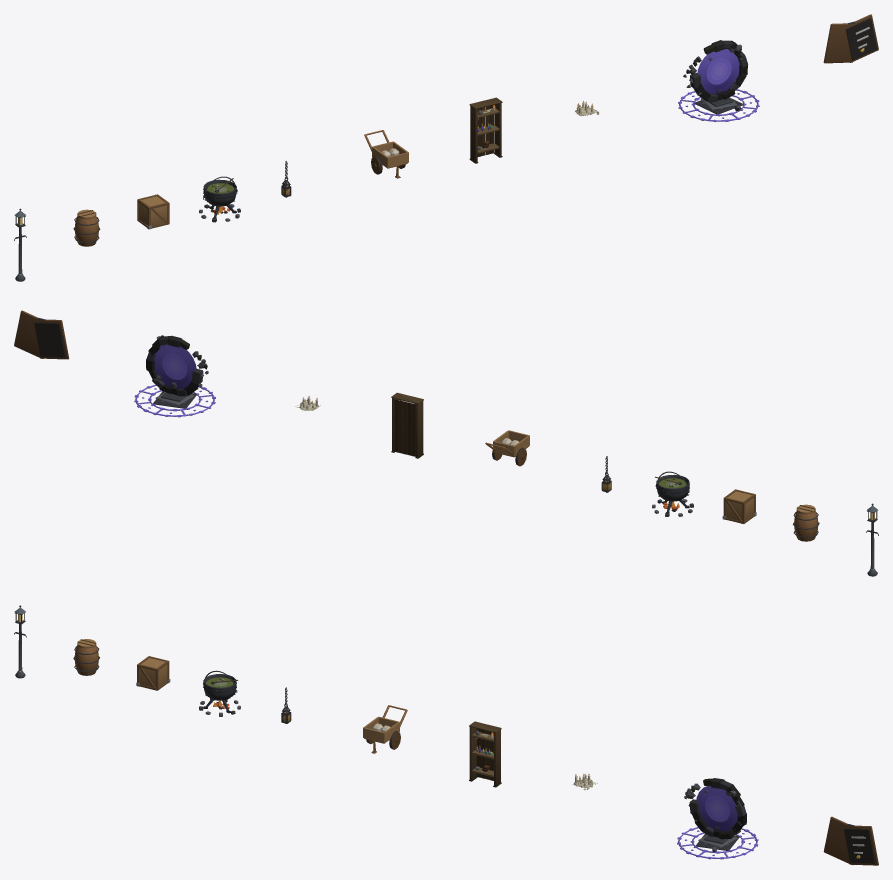
The model's file is alley-props.glb.
3 views of the same model, one above another, from view 1: azimuth 30°, elevation 25°; view 2: azimuth 150°, elevation 25°; view 3: azimuth 330°, elevation 25° (orthographic).
Parts seen in each view (by area): view 1: dun_magic_portal, aframe_chalkboard_01, dun_alchemy_shelf, dun_cauldron, veh_hand_cart_01, crate_01, barrel_01; view 2: dun_magic_portal, aframe_chalkboard_01, dun_alchemy_shelf, dun_cauldron, veh_hand_cart_01, crate_01, barrel_01; view 3: dun_magic_portal, aframe_chalkboard_01, dun_alchemy_shelf, dun_cauldron, veh_hand_cart_01, crate_01, barrel_01.
Boxes of the visible parts, x1=… form: dun_magic_portal: x1=678, y1=40, x2=759, y2=121; aframe_chalkboard_01: x1=823, y1=14, x2=878, y2=63; dun_alchemy_shelf: x1=469, y1=97, x2=502, y2=163; dun_cauldron: x1=199, y1=176, x2=240, y2=222; veh_hand_cart_01: x1=364, y1=130, x2=408, y2=178; crate_01: x1=137, y1=194, x2=169, y2=229; barrel_01: x1=73, y1=209, x2=100, y2=246; dun_magic_portal: x1=134, y1=335, x2=215, y2=417; aframe_chalkboard_01: x1=14, y1=310, x2=69, y2=359; dun_alchemy_shelf: x1=391, y1=392, x2=423, y2=458; dun_cauldron: x1=652, y1=471, x2=693, y2=516; veh_hand_cart_01: x1=485, y1=430, x2=529, y2=466; crate_01: x1=722, y1=489, x2=756, y2=523; barrel_01: x1=793, y1=504, x2=819, y2=541; dun_magic_portal: x1=677, y1=778, x2=758, y2=859; aframe_chalkboard_01: x1=823, y1=816, x2=878, y2=865; dun_alchemy_shelf: x1=469, y1=721, x2=501, y2=787; dun_cauldron: x1=199, y1=670, x2=240, y2=716; veh_hand_cart_01: x1=363, y1=705, x2=407, y2=753; crate_01: x1=136, y1=656, x2=170, y2=690; barrel_01: x1=73, y1=639, x2=99, y2=675.
Bounding box in the file's own units: 26.02 × 2.05 × 2.14.
